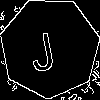J: (24, 23, 58, 73)
